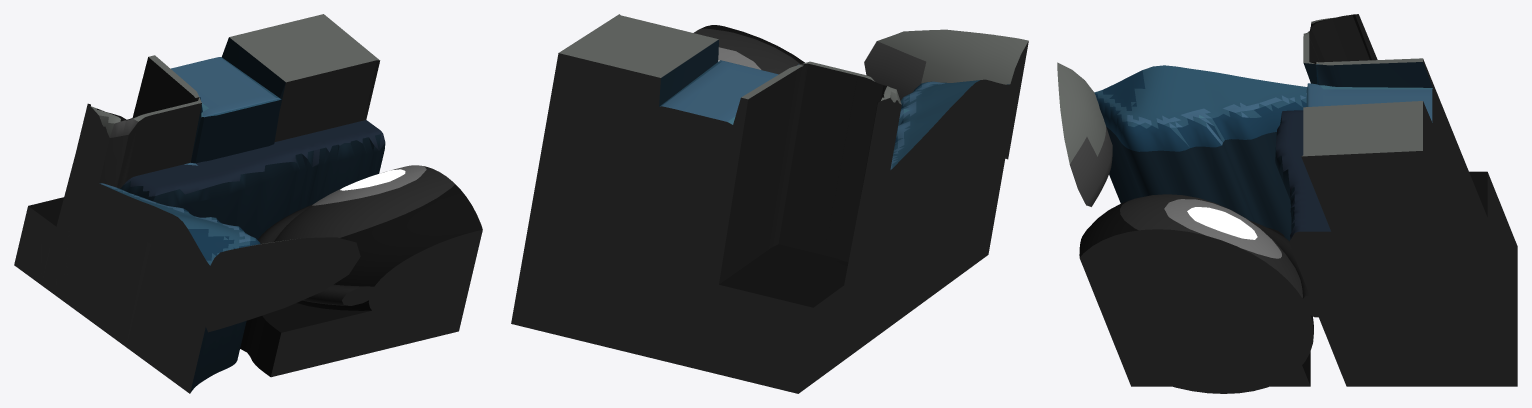
Rendered from fleet_walker_45.glb.
The picture shows the model from 3 angles, left to right: view 1: azimuth 30°, elevation 25°; view 2: azimuth 150°, elevation 25°; view 3: azimuth 270°, elevation 25°; orthographic projection. The views are drawn at different scales.
Visible parts, largest first — view 1: fleet_walker_45; view 2: fleet_walker_45; view 3: fleet_walker_45.
Boxes of the visible parts, x1=… form: fleet_walker_45: x1=14, y1=14, x2=482, y2=393; fleet_walker_45: x1=511, y1=14, x2=1028, y2=393; fleet_walker_45: x1=1057, y1=14, x2=1517, y2=393.
Bounding box in the file's own units: 24 × 19.45 × 33.36.
